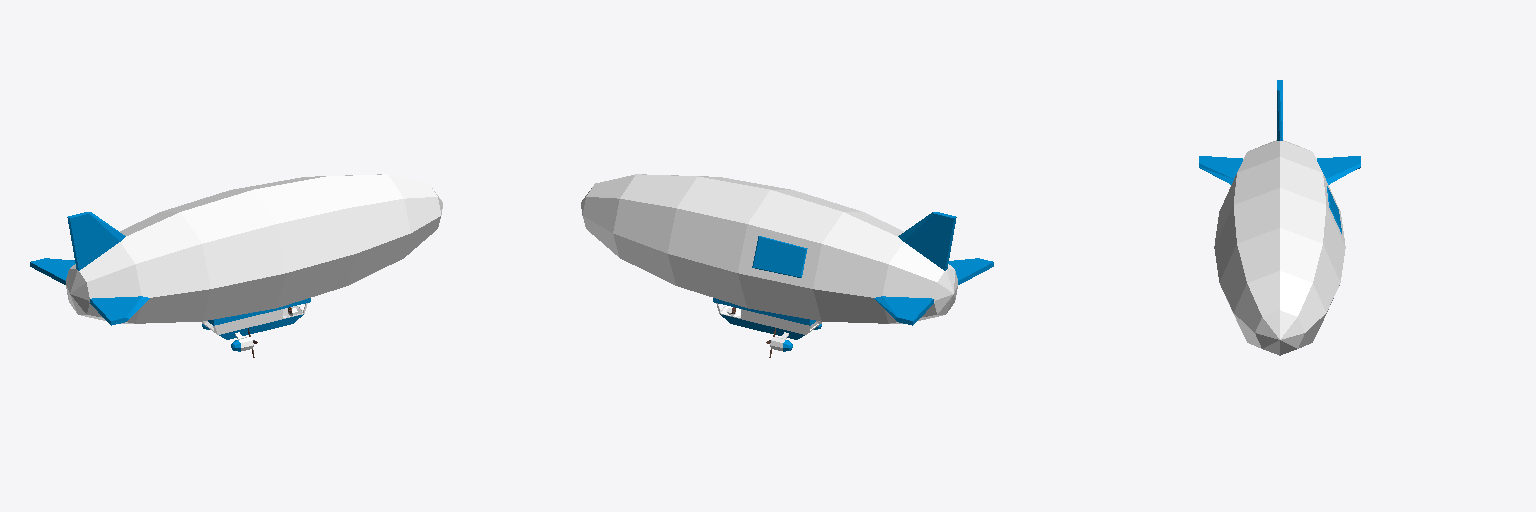
Rendered from Airship_01.obj.
3 views of the same model, side by side, from view 1: azimuth 30°, elevation 25°; view 2: azimuth 150°, elevation 25°; view 3: azimuth 270°, elevation 25° (orthographic).
Parts seen in each view (by area): view 1: Circle.015_Circle.016; view 2: Circle.015_Circle.016; view 3: Circle.015_Circle.016.
Part boxes in pixels (left/top/right/bottom): Circle.015_Circle.016: left=30, top=174, right=442, bottom=357; Circle.015_Circle.016: left=581, top=174, right=993, bottom=357; Circle.015_Circle.016: left=1199, top=80, right=1360, bottom=355.
Size of the model in its own units: 25.72 by 11.03 by 9.64.